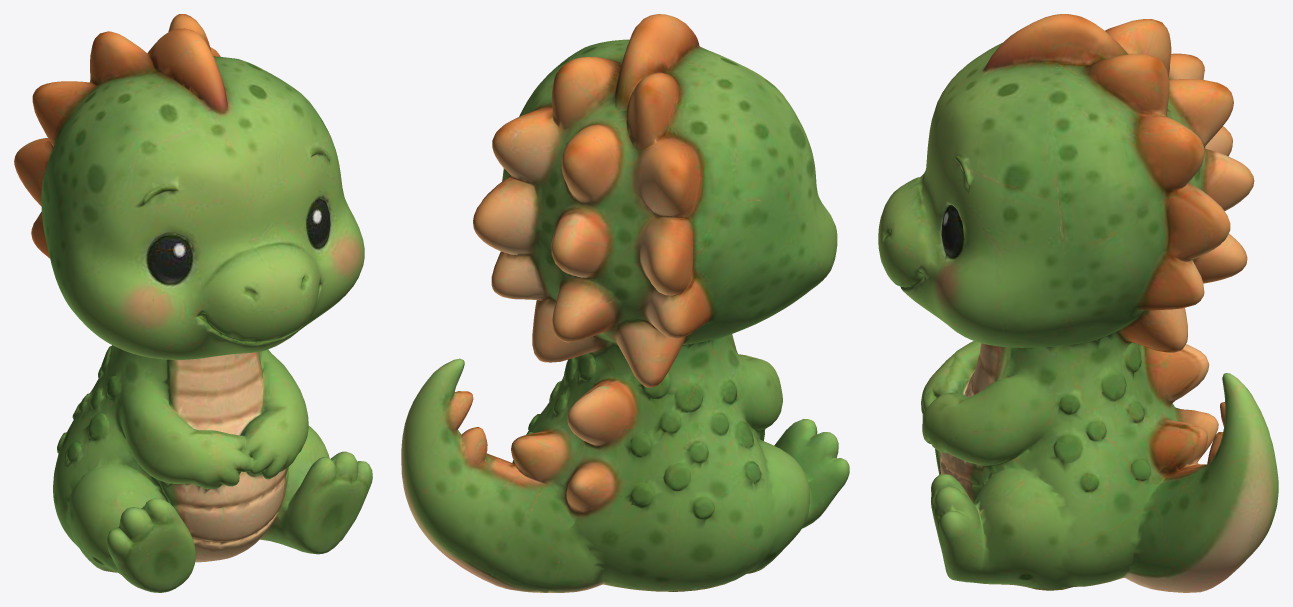
3 renders of one model, left to right at view 1: azimuth 30°, elevation 25°; view 2: azimuth 150°, elevation 25°; view 3: azimuth 270°, elevation 25°, orthographic. The views are drawn at different scales.
Bounding box in the file's own units: 1.14 × 1.9 × 1.31.
1 material, 1 textured.
